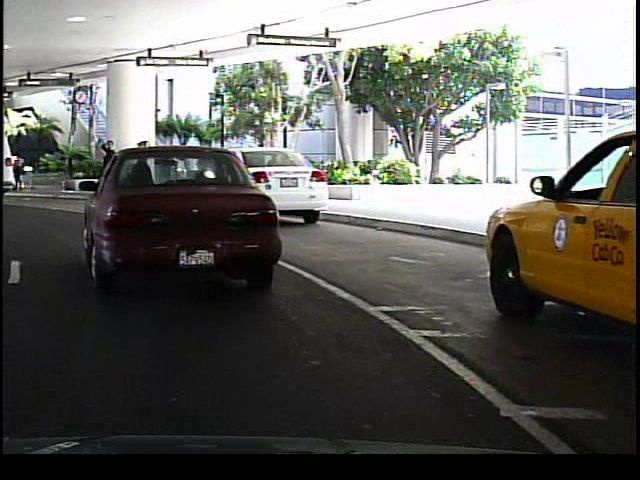person: (94, 137, 117, 196), (131, 138, 154, 196), (175, 143, 201, 193), (16, 153, 28, 197)
